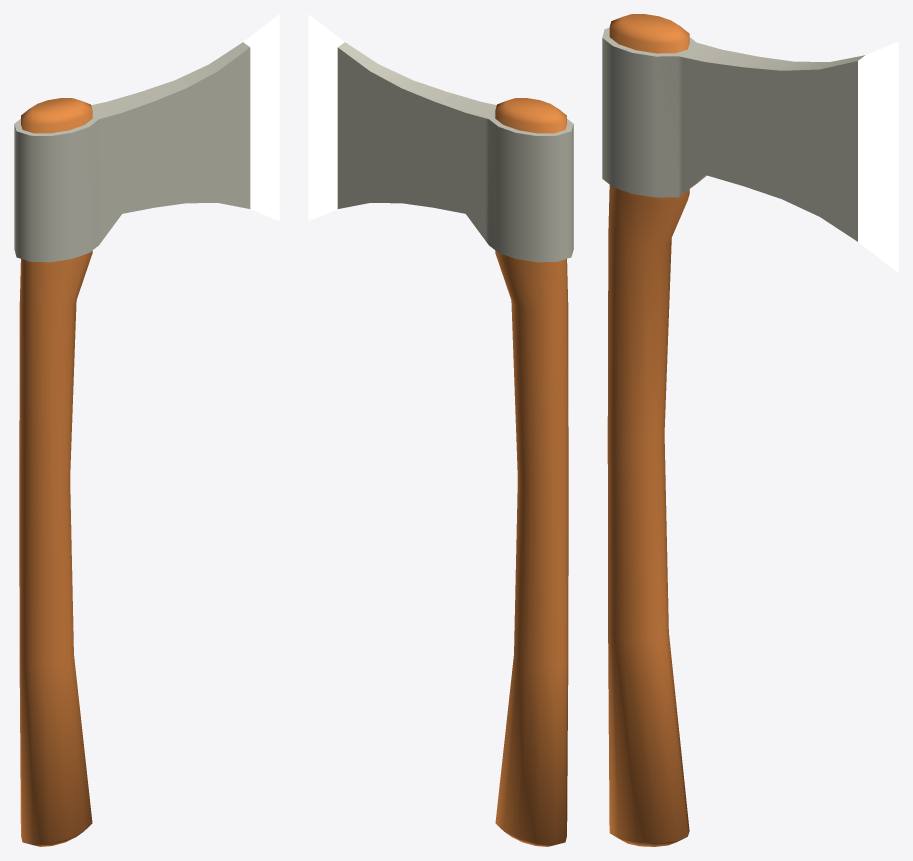
Rendered from axe.glb.
3 views of the same model, side by side, from view 1: azimuth 30°, elevation 25°; view 2: azimuth 150°, elevation 25°; view 3: azimuth 330°, elevation 25° (orthographic). The views are drawn at different scales.
Visible parts, largest first — view 1: Axe Head, Axe Handle; view 2: Axe Head, Axe Handle; view 3: Axe Head, Axe Handle.
Part boxes in pixels (<box>): Axe Head: <box>14,14,279,262</box>; Axe Handle: <box>19,98,92,846</box>; Axe Head: <box>308,14,573,262</box>; Axe Handle: <box>495,98,568,846</box>; Axe Head: <box>602,27,898,272</box>; Axe Handle: <box>607,14,689,846</box>.
Bounding box in the file's own units: 7.68 × 21.5 × 1.56.
